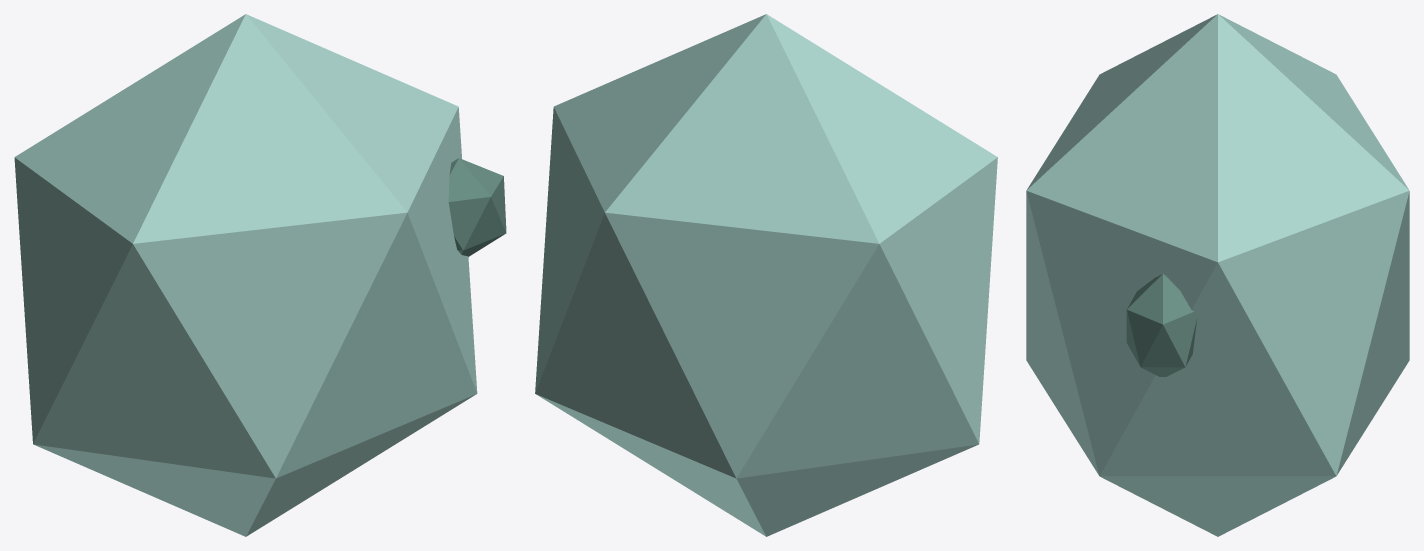
File: fish_003_blue_green_chromis__egg.glb
3 renders of one model, left to right at view 1: azimuth 30°, elevation 25°; view 2: azimuth 150°, elevation 25°; view 3: azimuth 270°, elevation 25°, orthographic.
Visible parts, largest first — view 1: fish_003_blue_green_chromis__egg__shell, fish_003_blue_green_chromis__egg__embryo_mark; view 2: fish_003_blue_green_chromis__egg__shell; view 3: fish_003_blue_green_chromis__egg__shell, fish_003_blue_green_chromis__egg__embryo_mark.
Part boxes in pixels (x1=…): fish_003_blue_green_chromis__egg__shell: x1=14, y1=14, x2=477, y2=536; fish_003_blue_green_chromis__egg__embryo_mark: x1=448, y1=158, x2=506, y2=256; fish_003_blue_green_chromis__egg__shell: x1=535, y1=14, x2=997, y2=536; fish_003_blue_green_chromis__egg__shell: x1=1026, y1=14, x2=1409, y2=536; fish_003_blue_green_chromis__egg__embryo_mark: x1=1126, y1=274, x2=1197, y2=376.
Bounding box in the file's own units: 0.00205 × 0.00231 × 0.00153.
